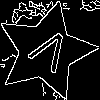V: (21, 26, 75, 82)
